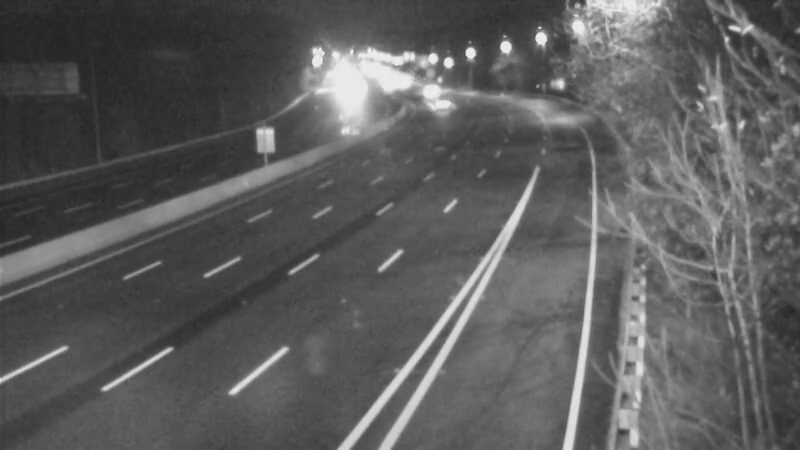vehicle: (398, 65, 448, 115), (406, 76, 456, 126)
